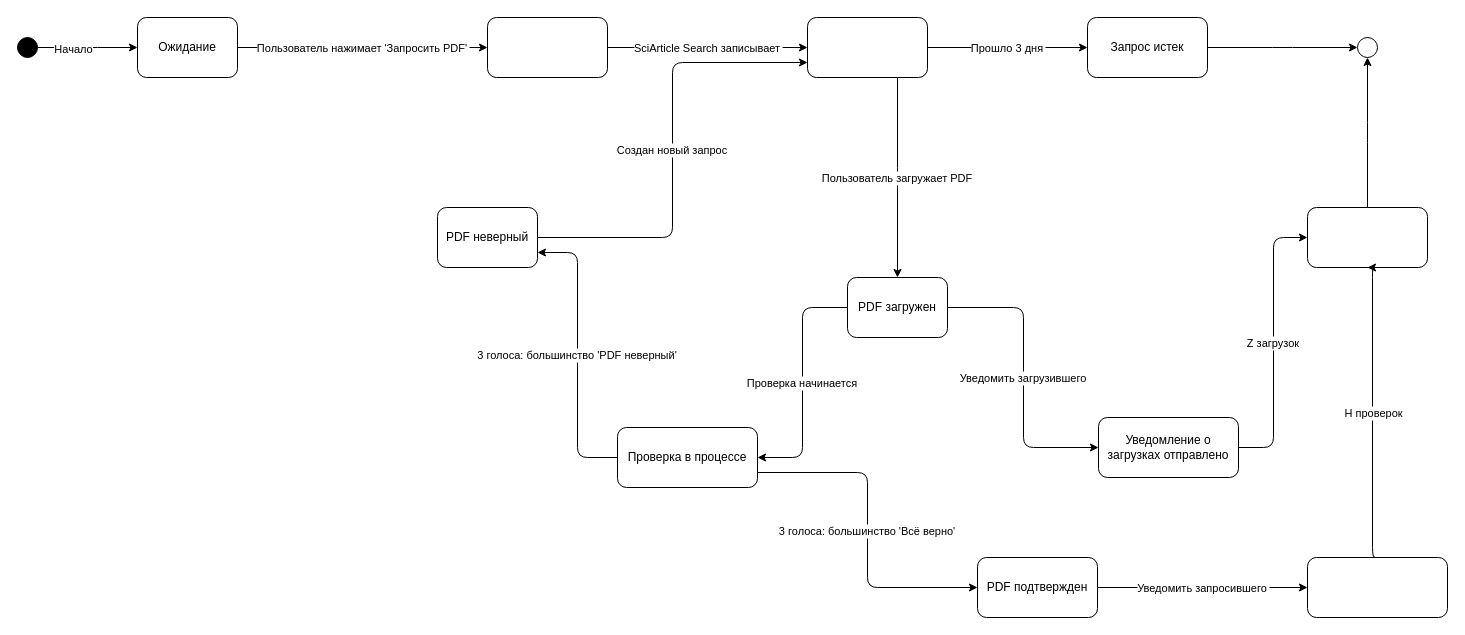
The diagram is 1465 pixels wide and 635 high, and some of its shapes have lost their labels. The shapes that lost their labels are listed below. From the top down, each one's centre as x and y in pixels, then its label:
pixel 547 47: Запрос отправлен
pixel 867 47: Запрос записан
pixel 1367 237: Подписка выдана
pixel 1377 587: Уведомление проверках отправлено
